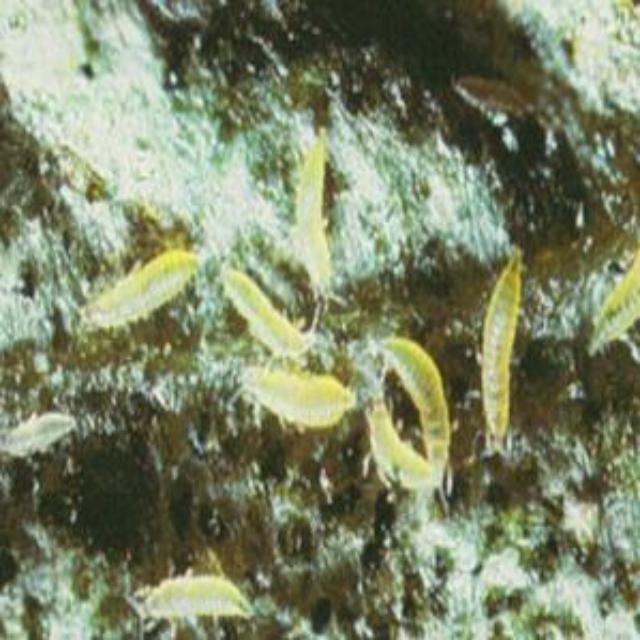melon thrips: (65, 210, 218, 366), (438, 251, 550, 457), (232, 146, 374, 304), (374, 306, 466, 494), (210, 348, 358, 454), (553, 215, 640, 386), (193, 251, 315, 367), (327, 385, 431, 515), (138, 535, 264, 631), (0, 410, 102, 474)
